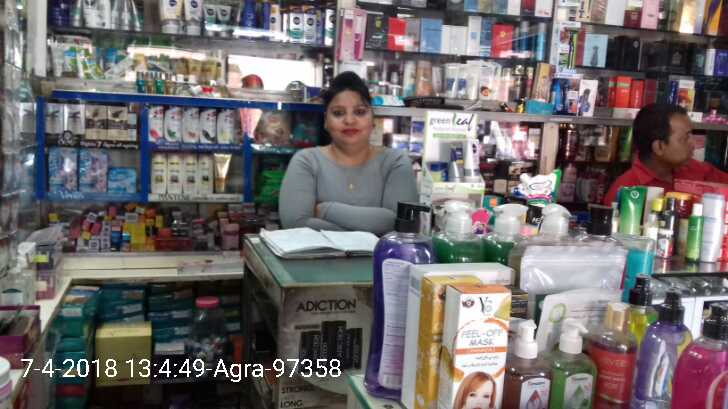venus: (48, 148, 78, 192), (79, 149, 108, 192), (109, 168, 138, 193)
